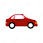car: (5, 14, 39, 28)
